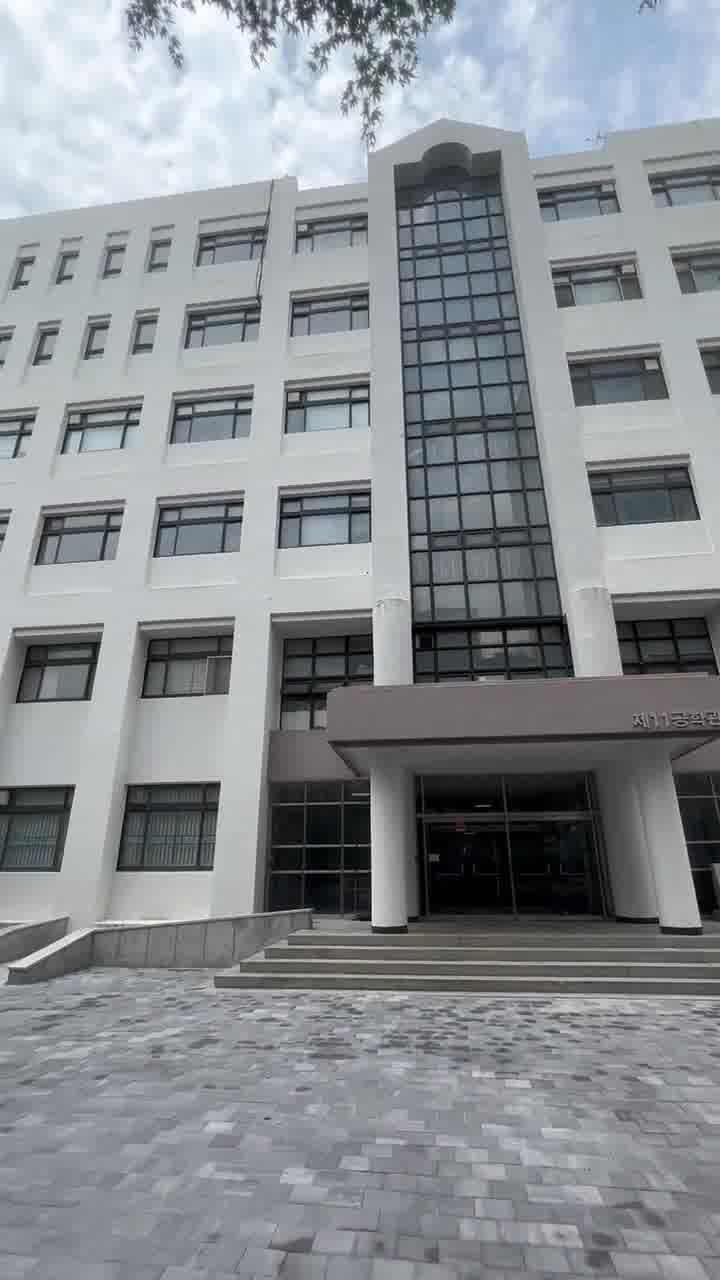building: (14, 122, 720, 940)
